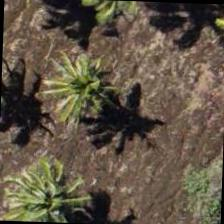Kelapa_Sawit: (48, 34, 142, 127), (0, 146, 91, 223)
